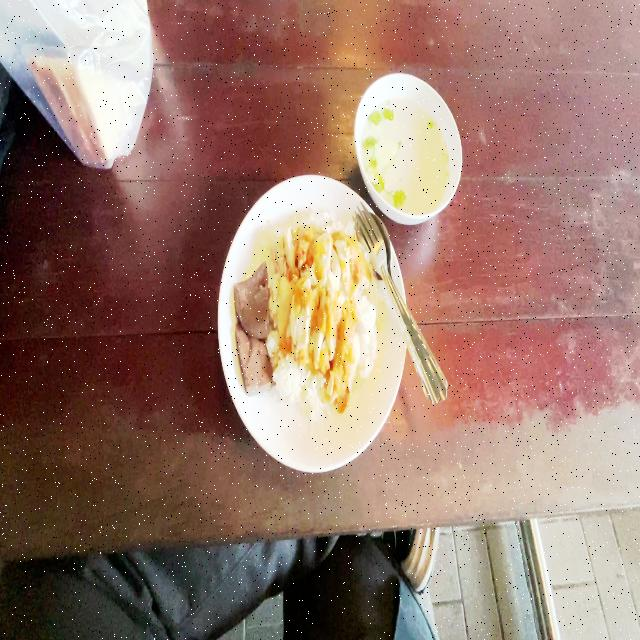boiled_chicken: (278, 222, 364, 364)
boiled_chicken_blood_jelly: (231, 326, 276, 392), (236, 261, 270, 336)
chicken_rice: (233, 215, 377, 416)
